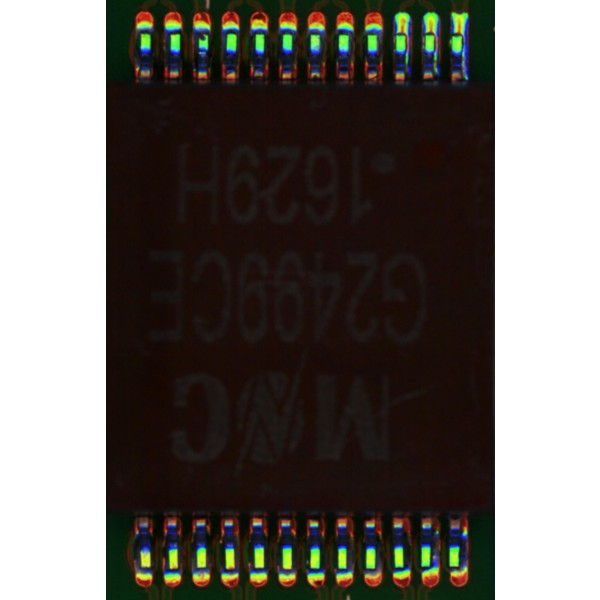Bad_podu: (399, 25, 407, 40), (428, 25, 436, 40), (456, 25, 464, 40)
Bad_qiaojiao: (435, 35, 440, 76), (462, 37, 467, 78), (405, 36, 410, 70)
